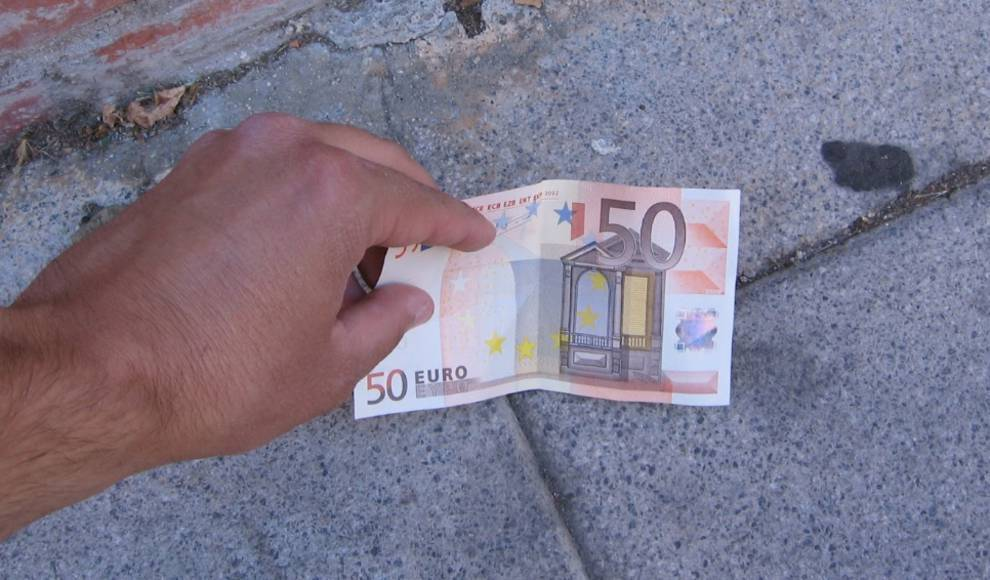billete: (349, 176, 744, 424)
